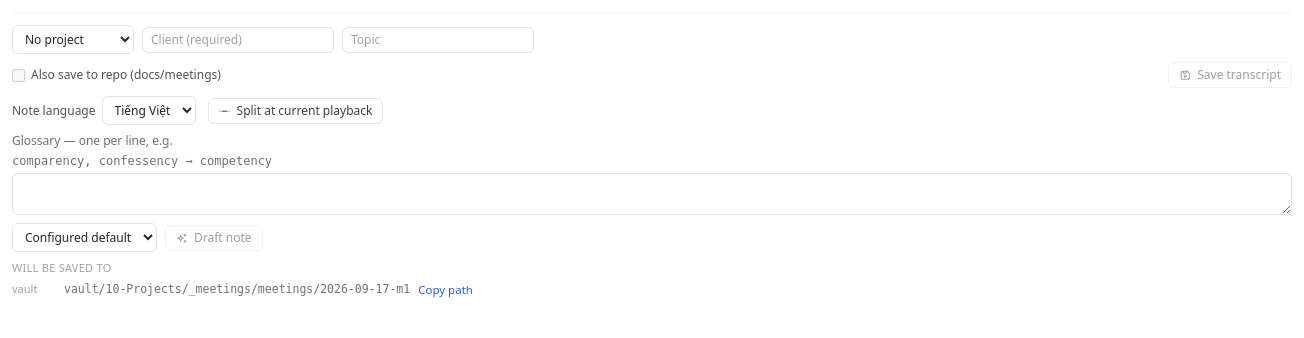
Scenario: AC-8 — the picker lists registered projects/workspaces; the repo copy is off by default › offers Mantu, Mantu · ABCV2 and PIM (no archived workspace); Save transcript sends alsoRepo:false
The width and height of the screenshot is (1304, 338).
Select "Mantu · ABCV2" in the dropdown named "Project or workspace" at coordinates (73, 40), box 12,25 -> 134,54
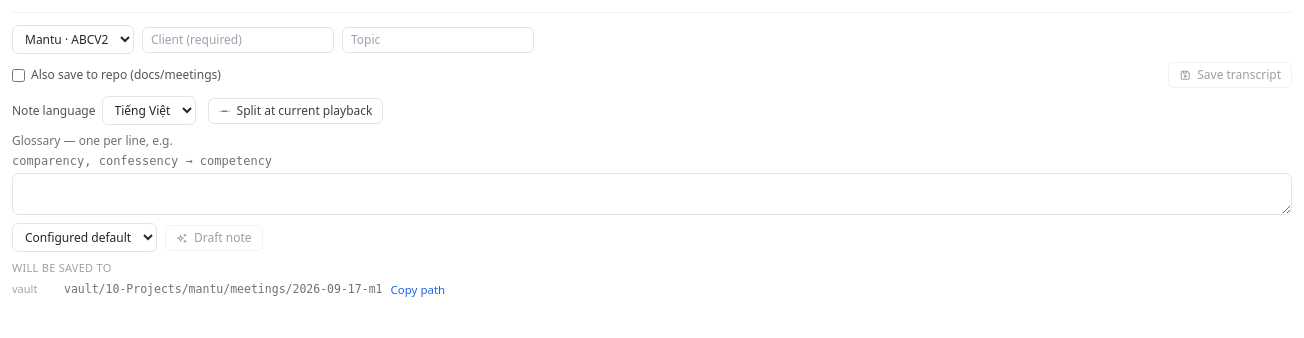
Type "Chị Kate" into the field labelled "Client" at coordinates (238, 40), box 142,26 -> 334,52
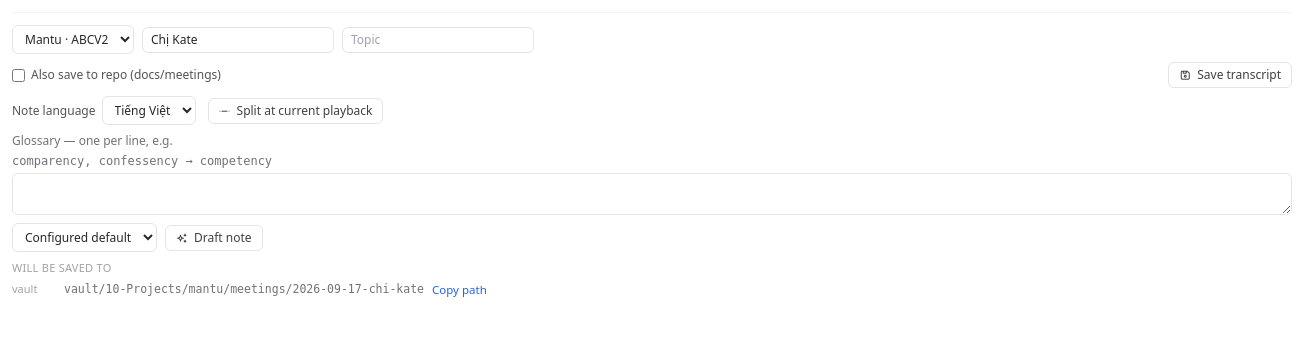
Expected: the checkbox labelled "Also save to repo" is not checked, 12,68 -> 25,82
Click the button "Save transcript" at coordinates (1230, 75), box 1168,62 -> 1292,88
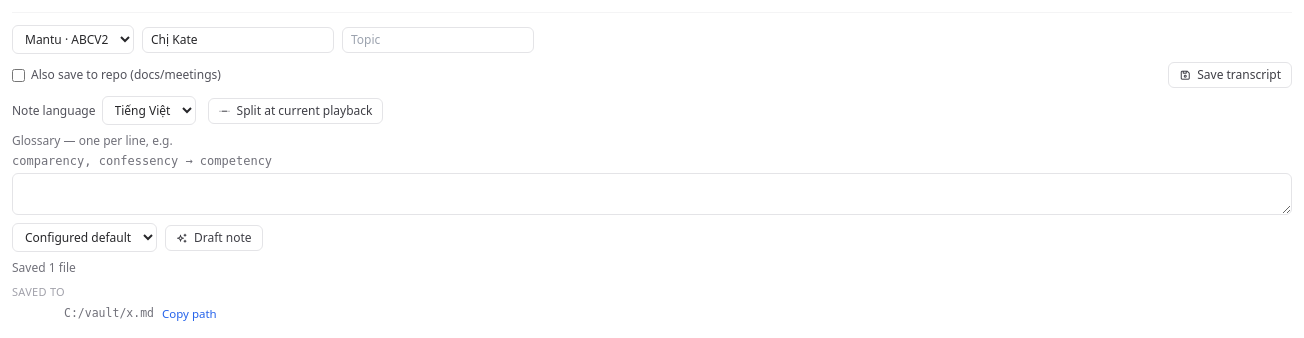
Result: the text "Saved 1 file" is shown at 12,259 -> 76,276
